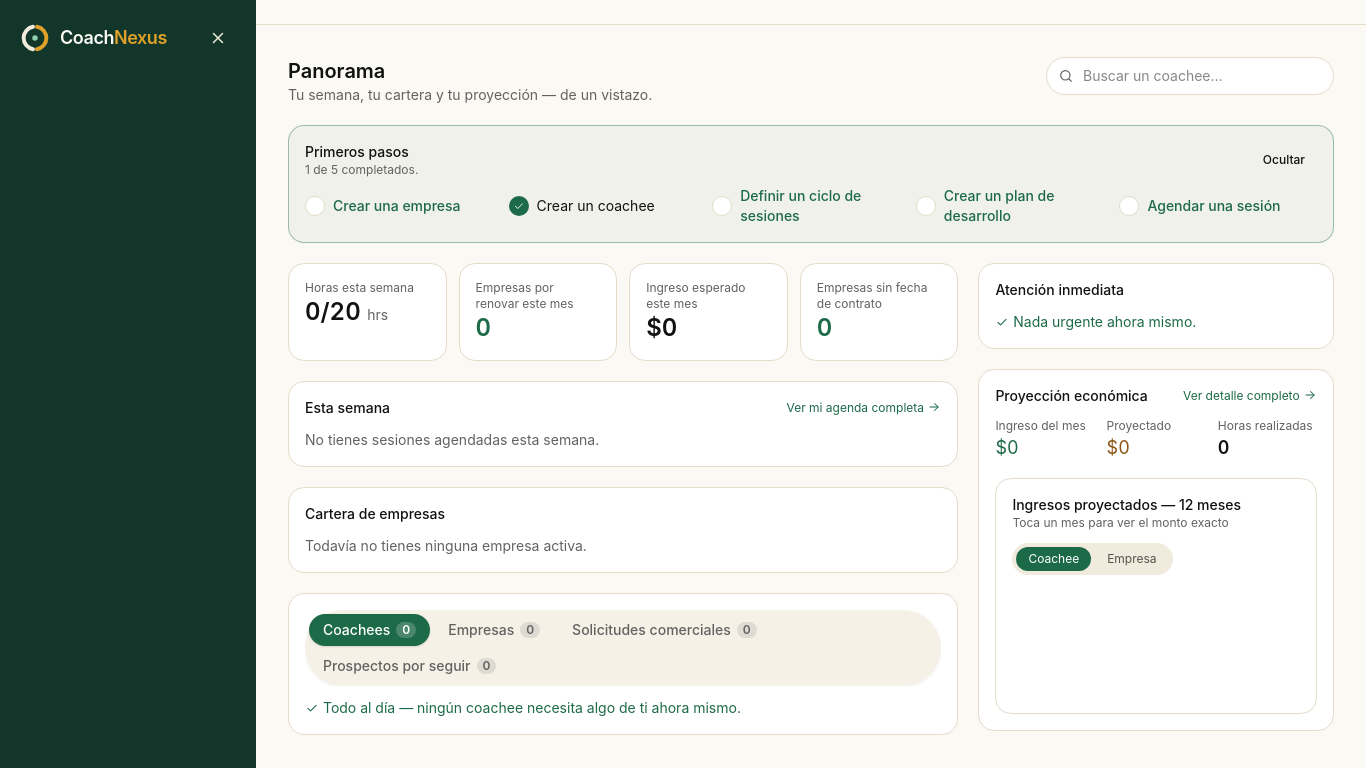
it: DashboardView › buscador de coachees › shows a muted "no matches" message instead of the whole list when nothing matches
This screenshot has width=1366, height=768.
Type "zzzz" into the search field with placeholder "Buscar un coachee…" at (1190, 76), box x1=1046 y1=57 x2=1334 y2=95
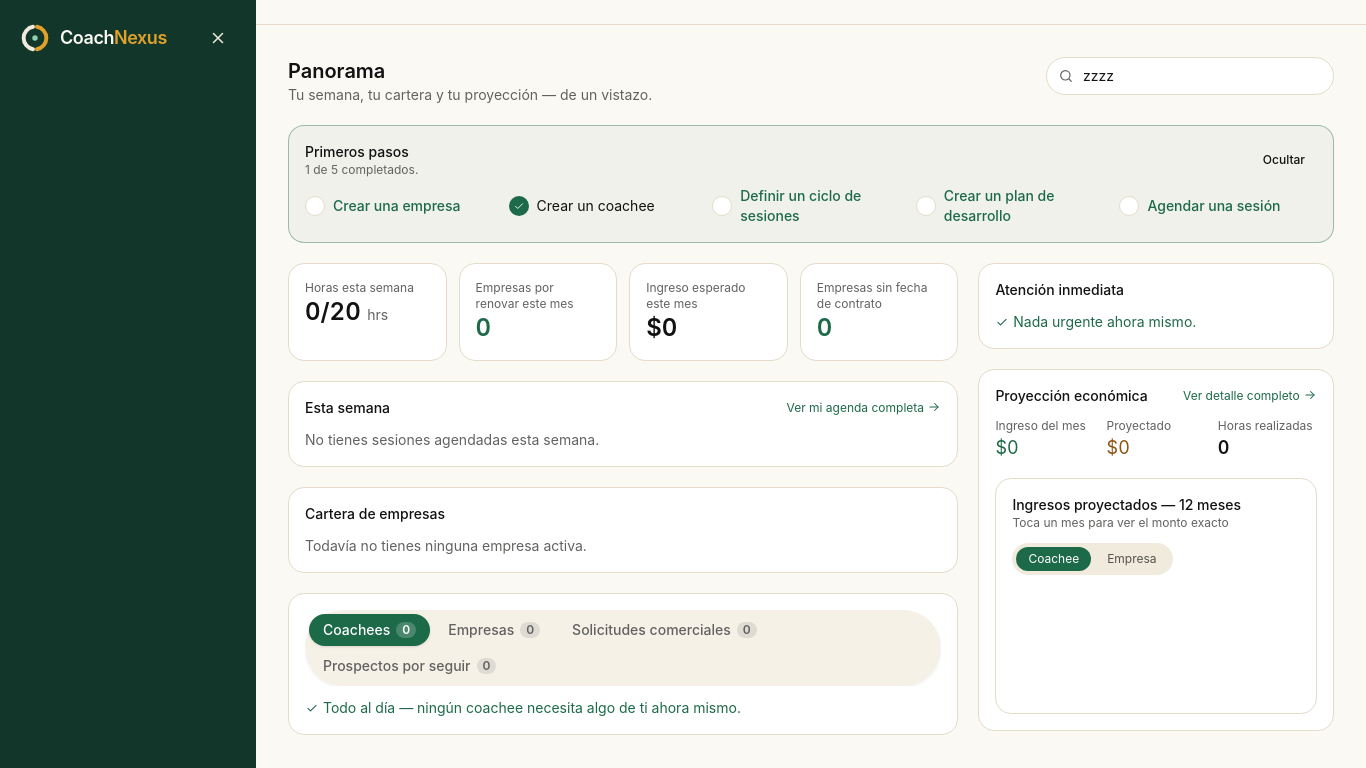
Focus the search field at (1190, 76), box x1=1046 y1=57 x2=1334 y2=95
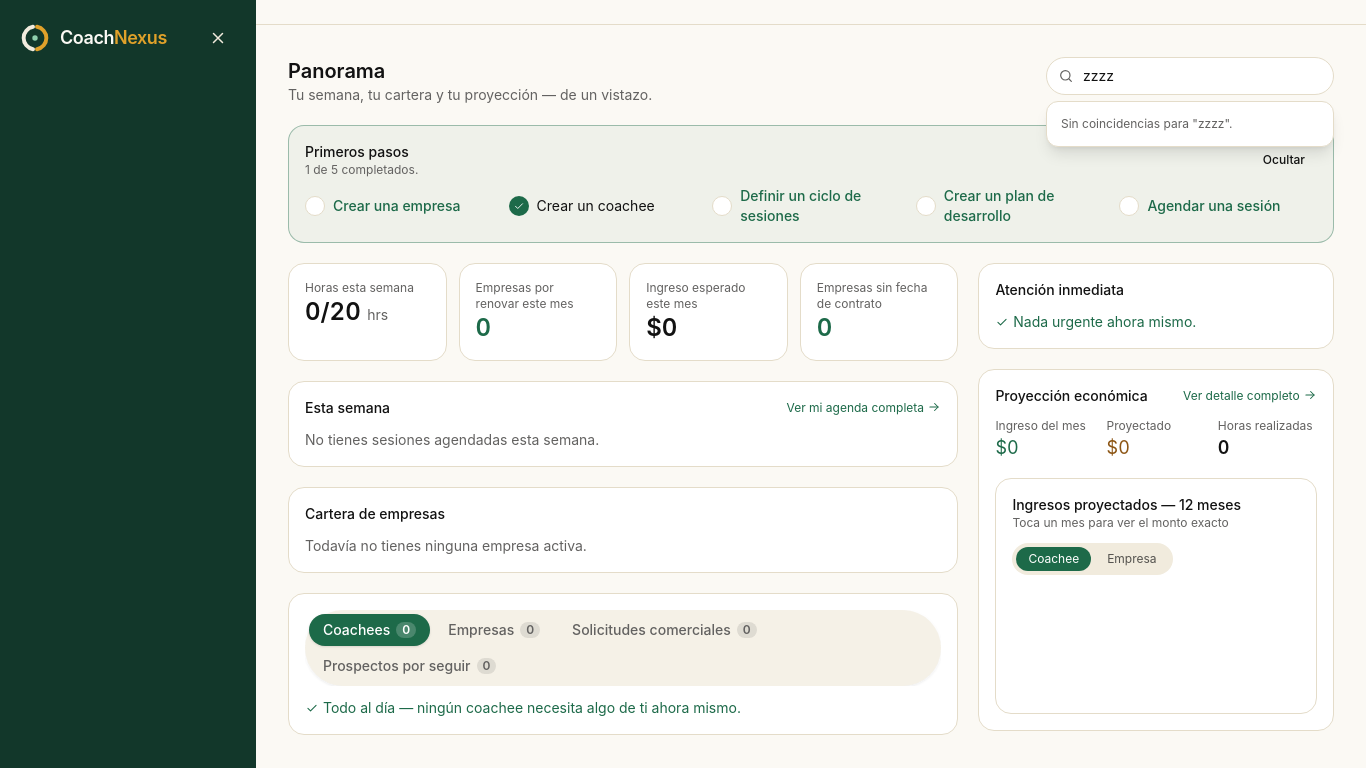
Result: the text "Sin coincidencias" is shown at x1=1061 y1=116 x2=1232 y2=131
